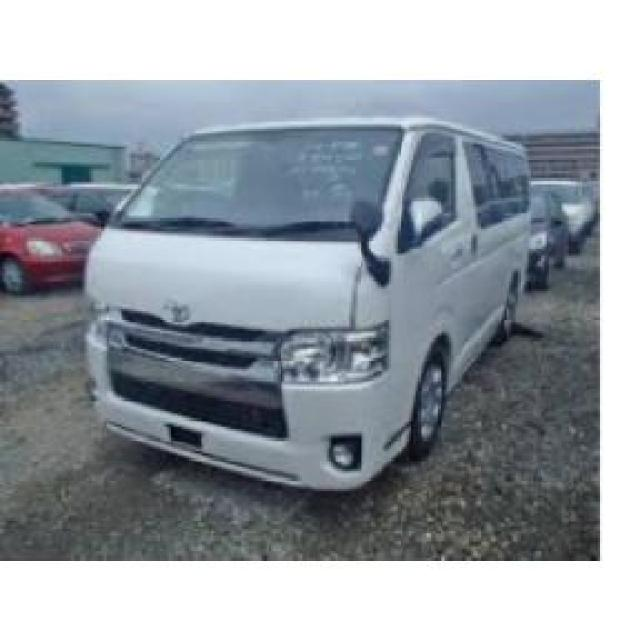Van: (81, 109, 539, 498)
